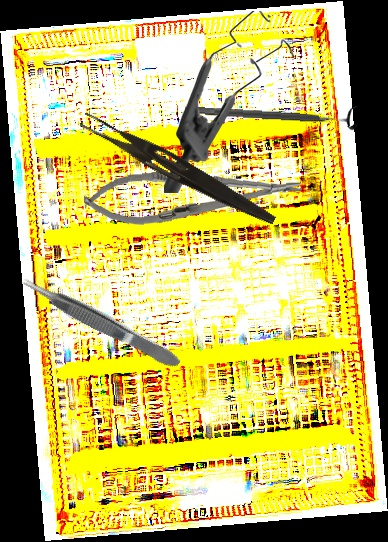Dressing Forceps: (75, 110, 282, 229)
Fixation Ring: (184, 96, 359, 132)
Needle Holder: (82, 161, 304, 230)
Speculum: (164, 11, 294, 193)
Tissue Forceps: (17, 270, 183, 375)
